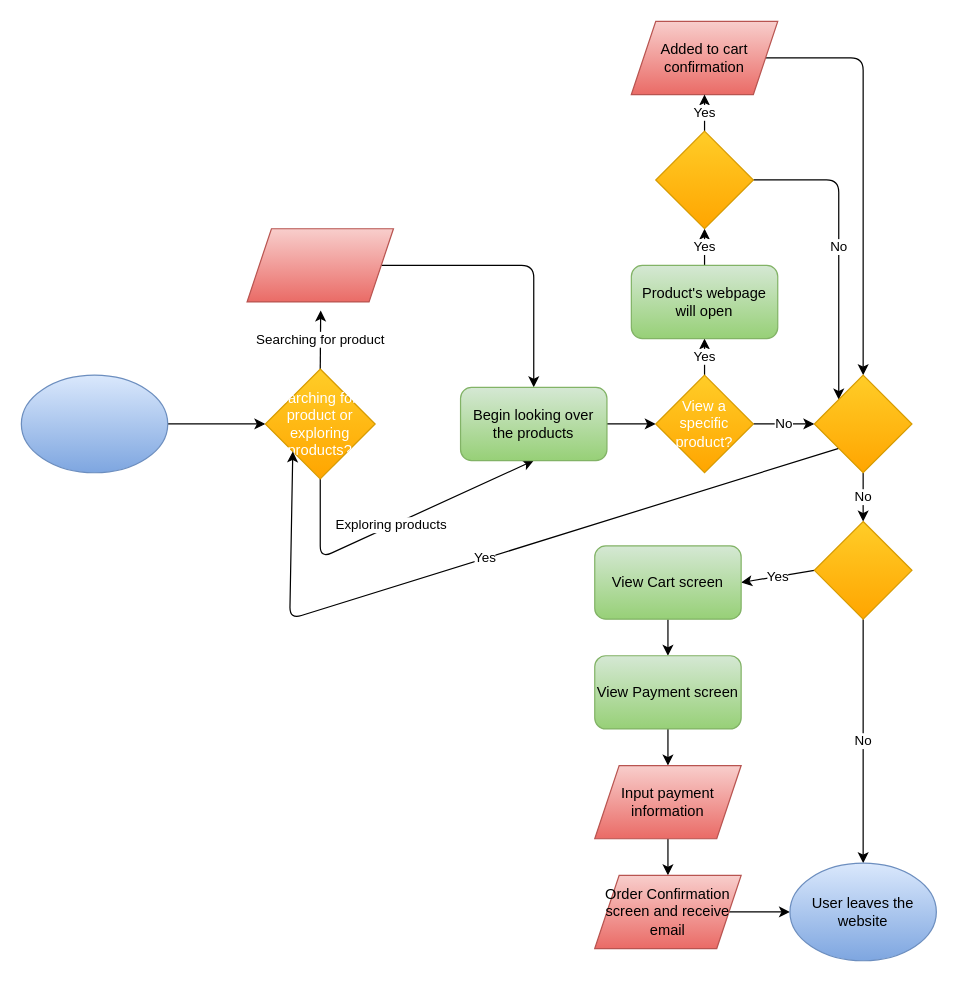
The diagram is 958 pixels wide and 982 high, and some of its shapes have lost their labels. The shapes that lost their labels are listed below. From the top down, each one's box as (x1, y1, x2, y2) in pixels, then its label:
(655, 130, 753, 229): Add item to cart?
(246, 228, 393, 302): Provide input to the website of their search
(20, 374, 168, 473): User enters the website
(813, 374, 912, 473): Continue shopping?
(813, 520, 912, 619): Checkout?
